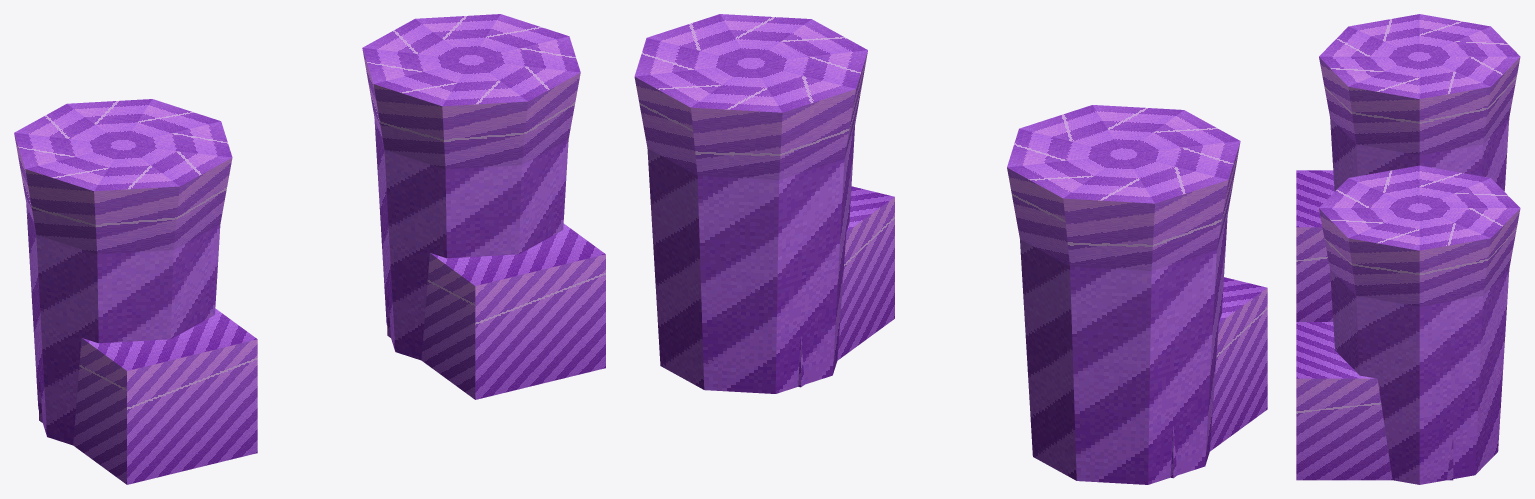
Rendered from luvas_de_ametista.glb.
3 views of the same model, side by side, from view 1: azimuth 30°, elevation 25°; view 2: azimuth 150°, elevation 25°; view 3: azimuth 270°, elevation 25° (orthographic). The views are drawn at different scales.
Visible parts, largest first — view 1: luvas_de_ametista; view 2: luvas_de_ametista; view 3: luvas_de_ametista.
Part boxes in pixels (x1=…): luvas_de_ametista: x1=14, y1=14, x2=605, y2=484; luvas_de_ametista: x1=634, y1=14, x2=1267, y2=484; luvas_de_ametista: x1=1296, y1=14, x2=1520, y2=484.
Bounding box in the file's own units: 0.5 × 0.24 × 0.2.
1 material, 1 textured.
